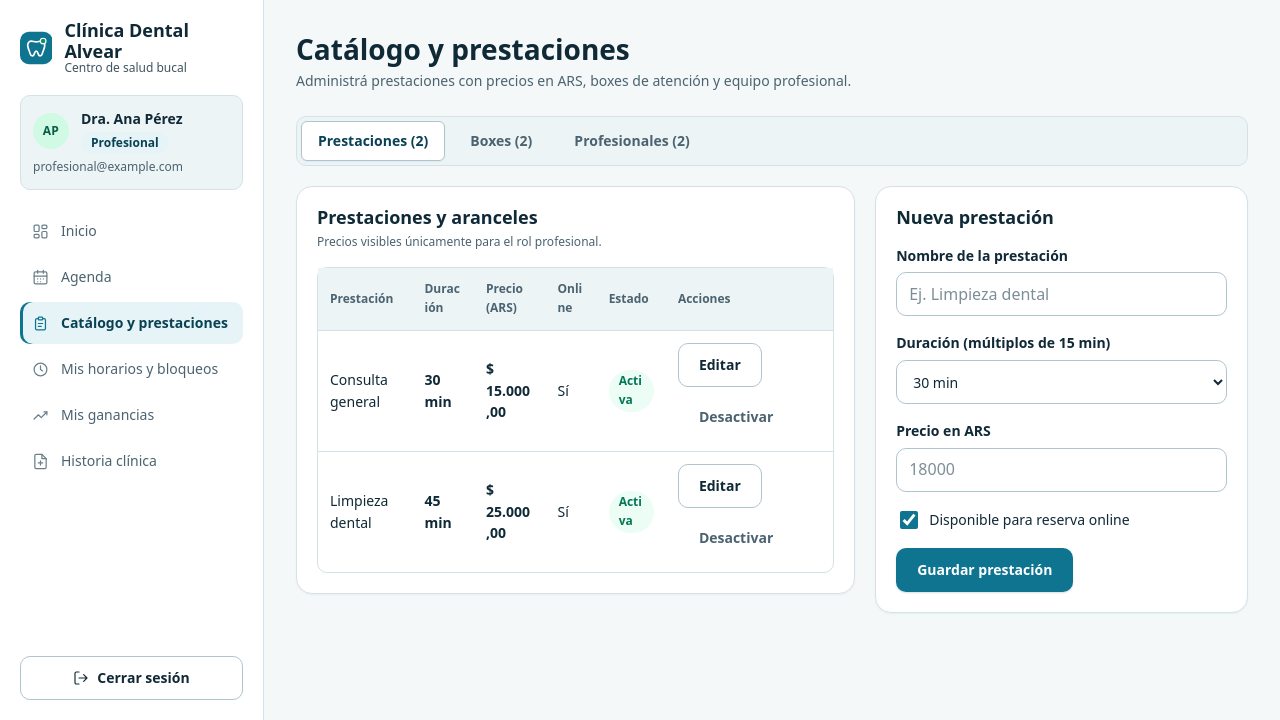
Test: Catálogo de prestaciones, boxes y profesionales › Listado inicial muestra prestaciones con precios ARS, boxes y profesionales
Check: the text "Consulta general" is shown, box [318,330,412,451]
Check: the text "$ 15.000,00" is shown, box [474,330,546,451]
Step 1. Click the tab "Boxes (2)" → [501, 141], box [453,121,549,161]
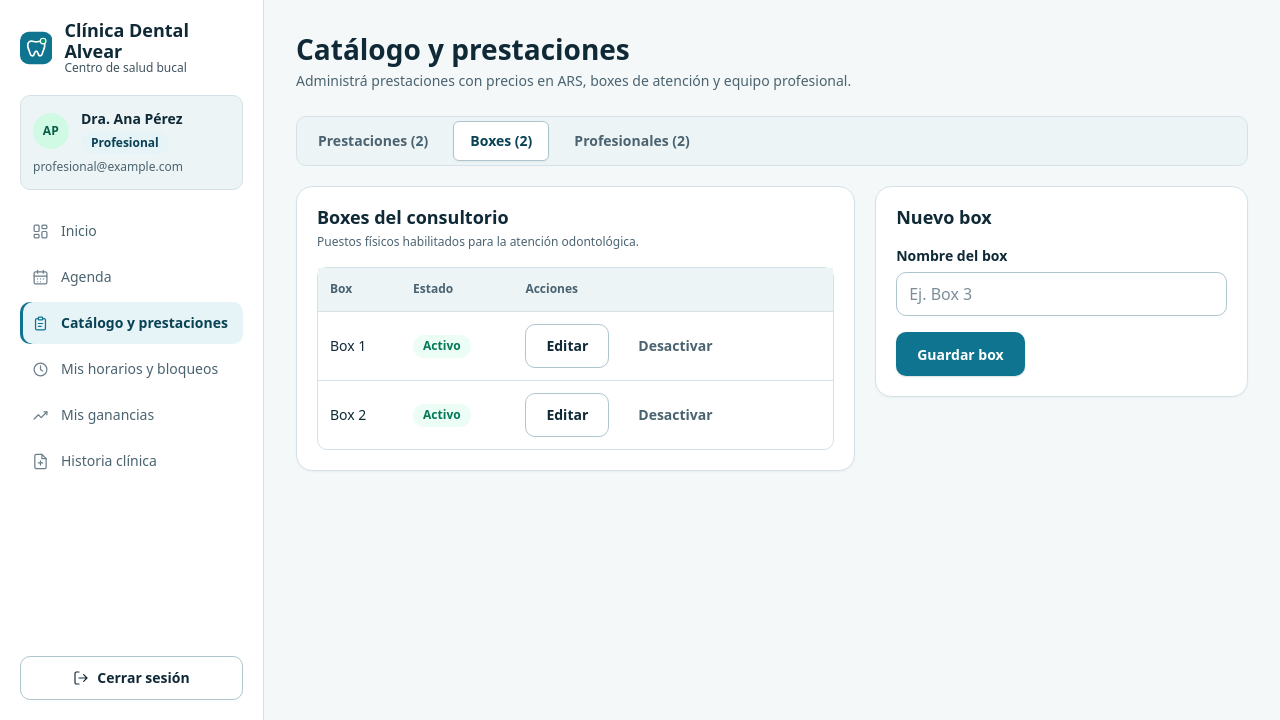
Check: the text "Box 1" is shown, box [318,312,401,380]
Check: the text "Box 2" is shown, box [318,380,401,449]
Step 2. Click the tab "Profesionales (2)" → [632, 141], box [557,121,707,161]
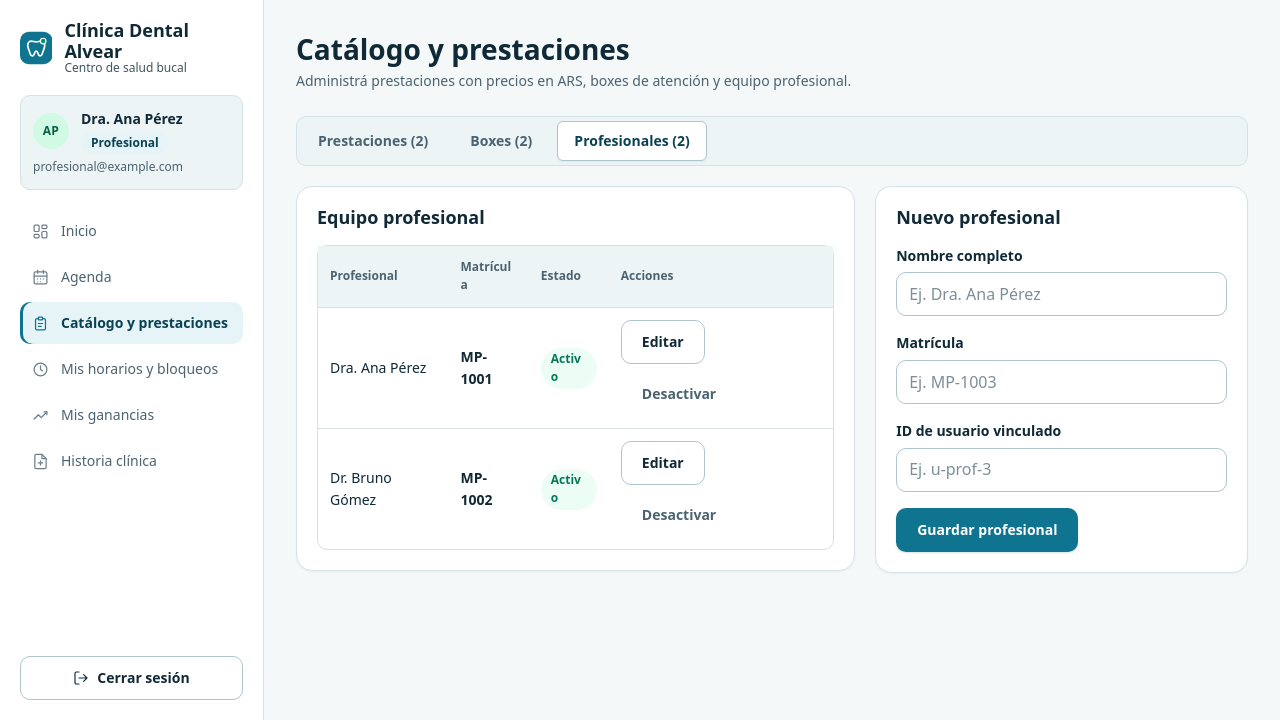
Check: the text "MP-1001" is shown, box [448,308,529,428]
Check: the text "Dr. Bruno Gómez" is shown, box [318,428,448,549]
